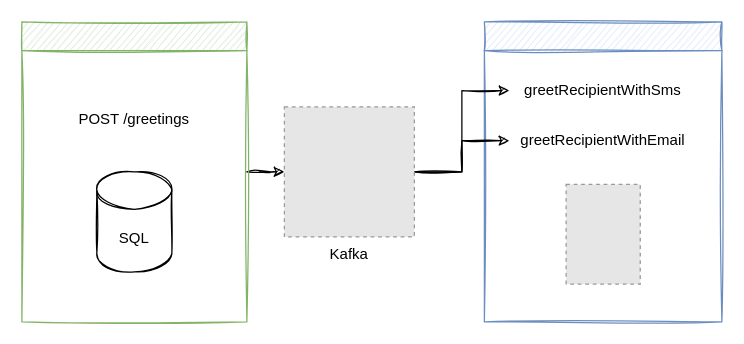
Image size: 744x344. Some labels were removed from this diagram. Grey dashed boxes stand in for pictures. Each missing label, with the box of its shape:
processor: (483, 21, 722, 322)
web: (21, 21, 247, 322)
